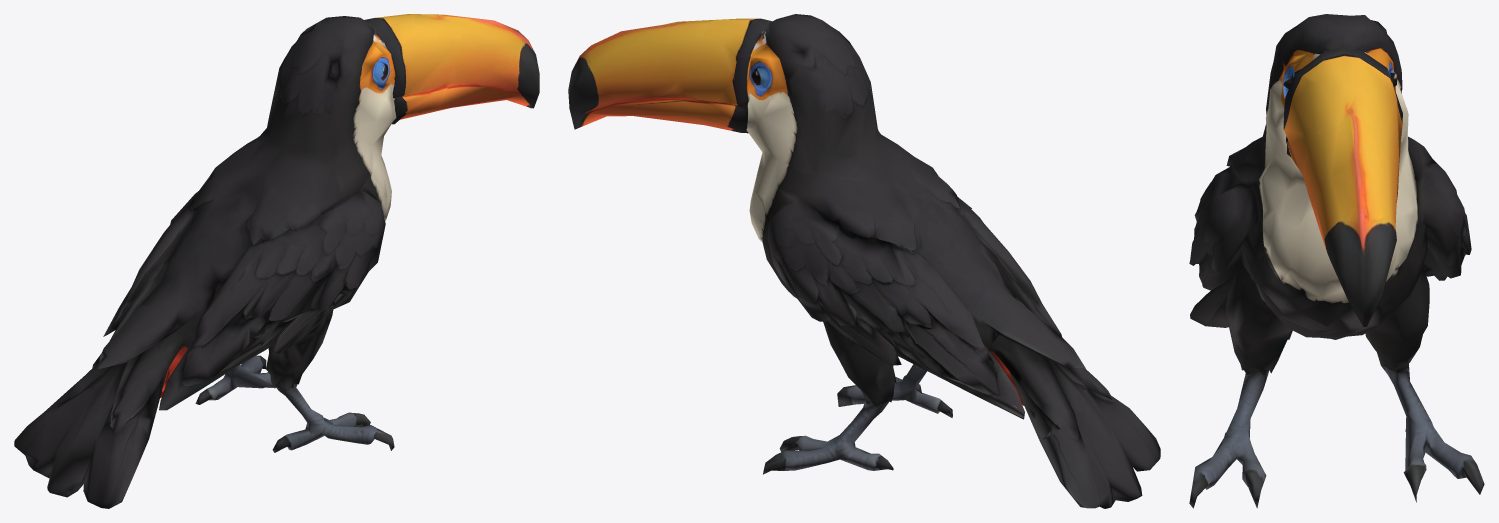
File: fauna-tukan.glb
3 renders of one model, left to right at view 1: azimuth 30°, elevation 25°; view 2: azimuth 150°, elevation 25°; view 3: azimuth 270°, elevation 25°, orthographic. The views are drawn at different scales.
Parts seen in each view (by area): view 1: tripo_node_6e1176f3-9d33-4398-92f2-8035dd044d0e; view 2: tripo_node_6e1176f3-9d33-4398-92f2-8035dd044d0e; view 3: tripo_node_6e1176f3-9d33-4398-92f2-8035dd044d0e.
Boxes of the visible parts, box(x1,y1,x2,y2) form: tripo_node_6e1176f3-9d33-4398-92f2-8035dd044d0e: box(14, 14, 539, 508); tripo_node_6e1176f3-9d33-4398-92f2-8035dd044d0e: box(568, 14, 1160, 508); tripo_node_6e1176f3-9d33-4398-92f2-8035dd044d0e: box(1189, 14, 1484, 508).
Size of the model in its own units: 1 by 0.7163 by 0.3862.
Materials: 1 (1 with a texture image).
